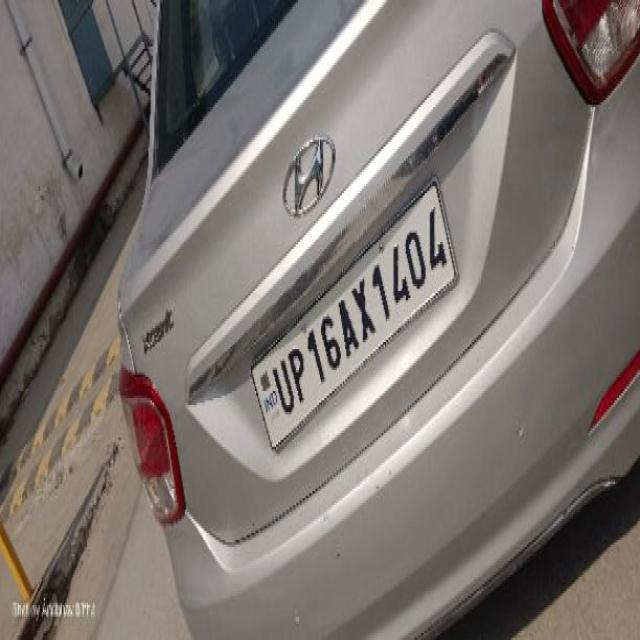license_plate: (115, 0, 638, 635), (249, 172, 459, 452)
